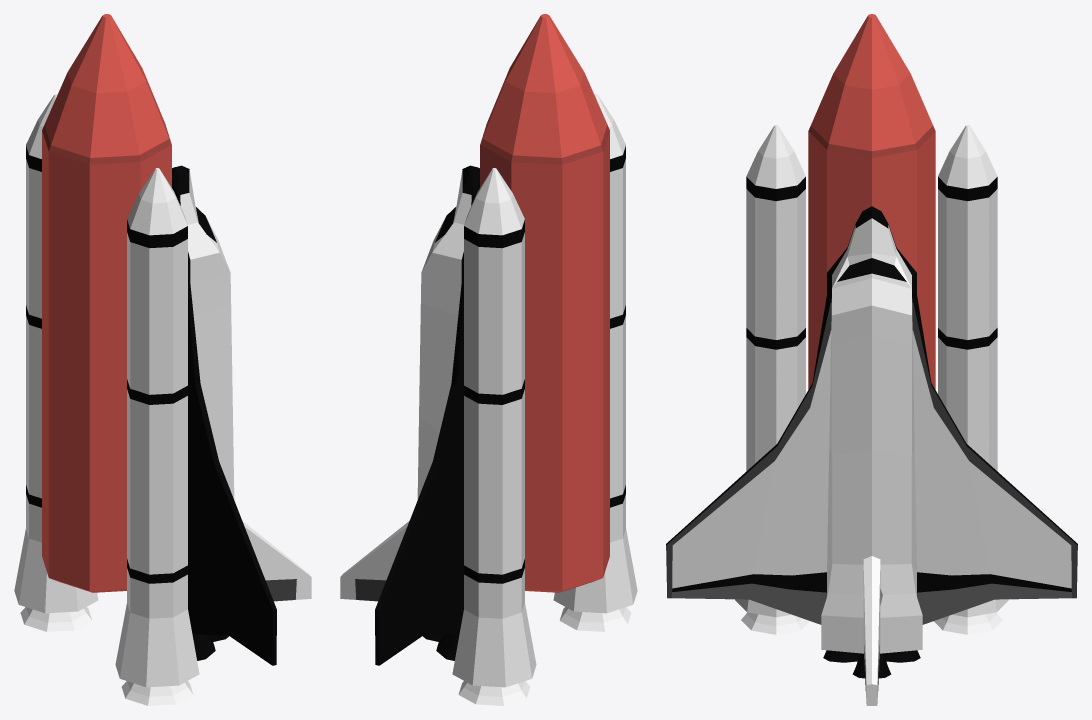
File: SpaceShuttle.fbx
3 renders of one model, left to right at view 1: azimuth 30°, elevation 25°; view 2: azimuth 150°, elevation 25°; view 3: azimuth 270°, elevation 25°, orthographic. The views are drawn at different scales.
Parts seen in each view (by area): view 1: Rocket, Plane; view 2: Rocket, Plane; view 3: Plane, Rocket.
Part boxes in pixels (bbox=[...]): Rocket: bbox=[14, 14, 199, 705]; Plane: bbox=[172, 165, 311, 665]; Rocket: bbox=[452, 14, 637, 705]; Plane: bbox=[340, 165, 479, 665]; Plane: bbox=[666, 206, 1077, 705]; Rocket: bbox=[735, 14, 1008, 634].
Size of the model in its own units: 400 by 950 by 579.
